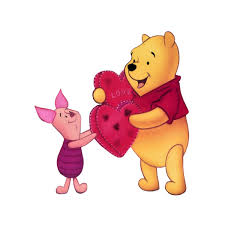Winnie: (116, 29, 181, 119)
